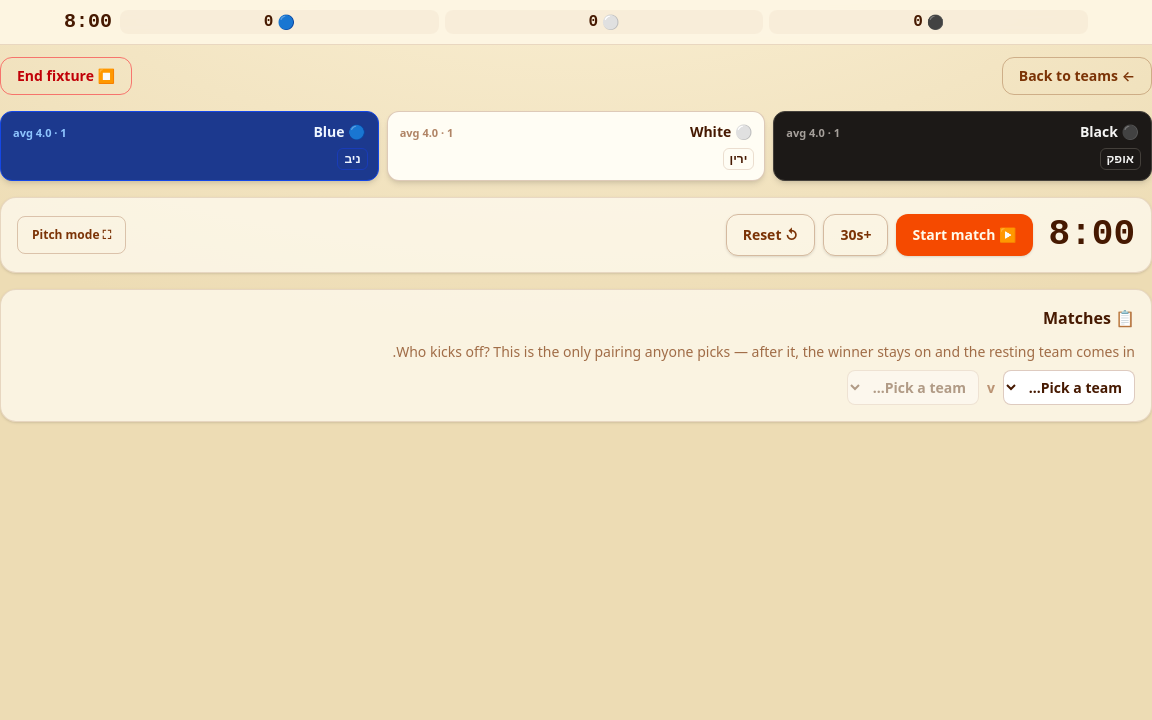
ending a night › asks what to do with the result rather than whether you are sure
Click the button "⏹️ End fixture" at (66, 76), box [0,57,132,95]
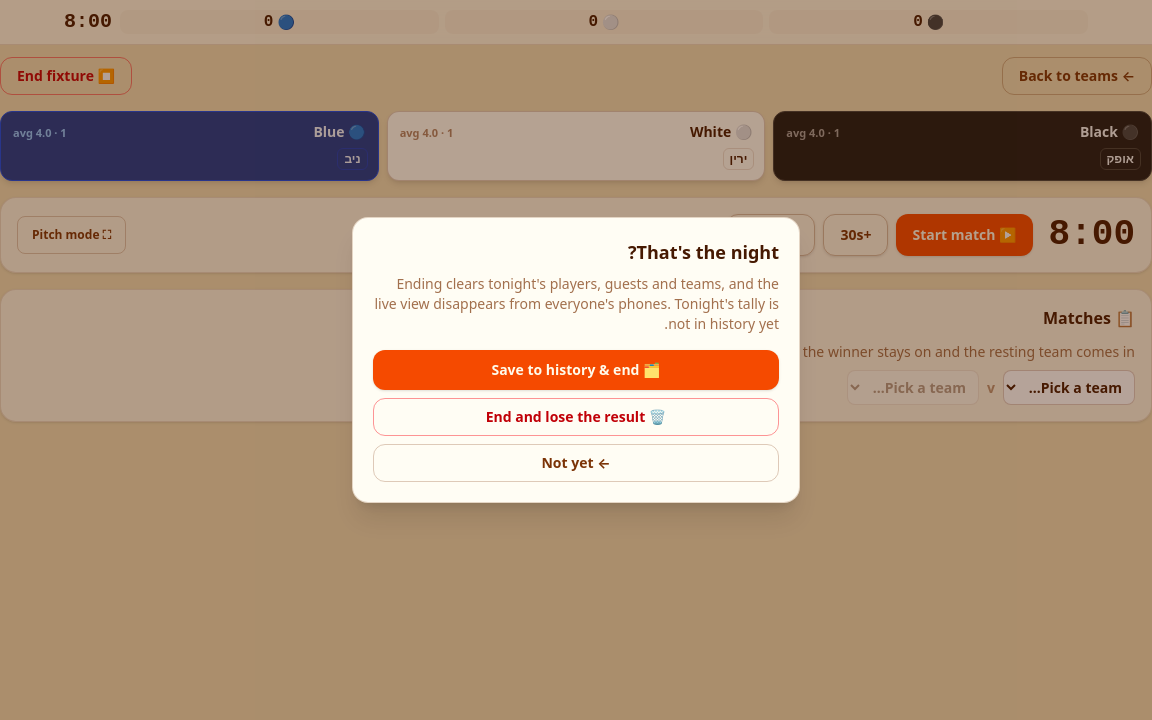
Result: the heading "That's the night?" is shown at [628,240,779,264]
Result: the button "🗂️ Save to history & end" is shown at [373,350,779,390]
Result: the button "🗑️ End and lose the result" is shown at [373,398,779,436]
